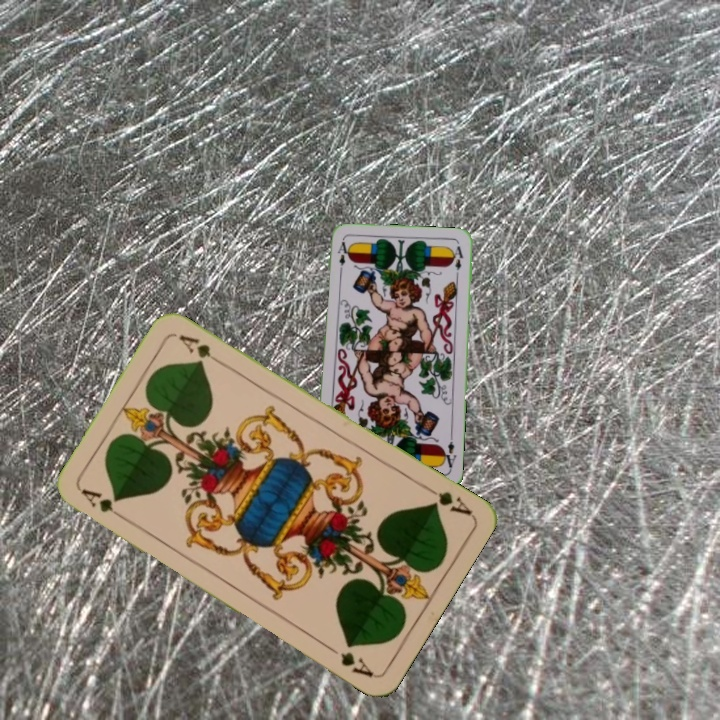EA: (439, 431, 459, 472), (334, 238, 349, 277)
GA: (77, 484, 130, 524), (420, 481, 475, 518)
